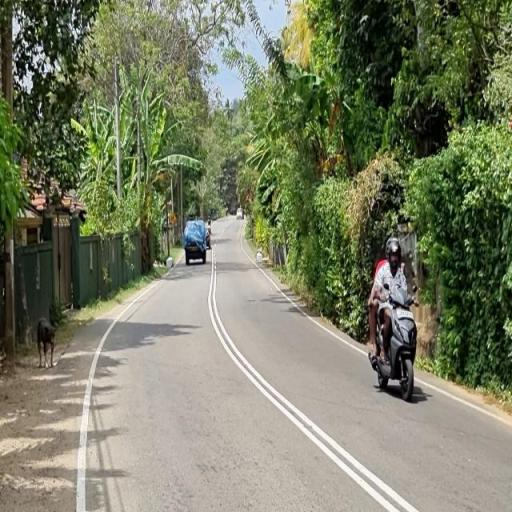double_white_line: (208, 287, 419, 512)
